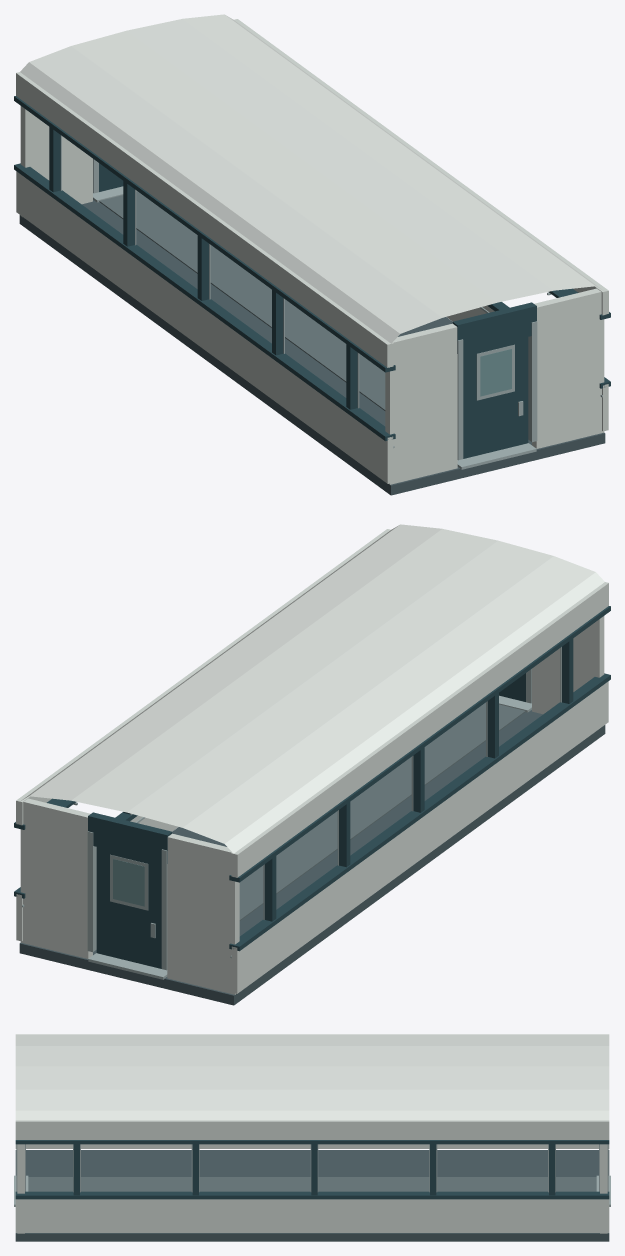
The model's file is carriage_modern.glb.
The picture shows the model from 3 angles, top to bottom: view 1: azimuth 30°, elevation 25°; view 2: azimuth 150°, elevation 25°; view 3: azimuth 270°, elevation 25°; orthographic projection. The views are drawn at different scales.
Parts seen in each view (by area): view 1: Faceted curved ceiling, Vestibule side panel (×3), Lower side wall, Upper side wall (×2), Full width floor, Open aisle runner, Continuous window sill, Sliding door panel, Window pillar (×5), Window header, Vestibule lintel, Tinted door glass (+3 smaller); view 2: Faceted curved ceiling, Vestibule side panel (×3), Lower side wall, Upper side wall (×2), Full width floor, Open aisle runner, Continuous window sill, Sliding door panel, Window pillar (×5), Window header, Vestibule lintel, Tinted door glass (+3 smaller); view 3: Faceted curved ceiling, Lower side wall (×2), Full width floor, Upper side wall, Open aisle runner, Continuous window sill, Window header, Window pillar (×5), Vestibule side panel (×2).
Part boxes in pixels (box(x1,y1,x2,y2)): Faceted curved ceiling: box(20, 14, 603, 343); Vestibule side panel (×3): box(20, 106, 604, 484); Lower side wall: box(16, 171, 393, 483); Upper side wall (×2): box(16, 19, 608, 367); Full width floor: box(19, 200, 605, 495); Open aisle runner: box(99, 191, 385, 410); Continuous window sill: box(14, 163, 395, 441); Sliding door panel: box(463, 337, 528, 458); Window pillar (×5): box(49, 127, 357, 409); Window header: box(14, 96, 395, 372); Vestibule lintel: box(452, 302, 536, 353); Tinted door glass: box(480, 349, 511, 396); Faceted curved ceiling: box(21, 524, 604, 853); Vestibule side panel (×3): box(20, 616, 604, 994); Lower side wall: box(231, 681, 608, 993); Upper side wall (×2): box(16, 529, 608, 877); Full width floor: box(19, 710, 605, 1005); Open aisle runner: box(239, 702, 525, 920); Continuous window sill: box(229, 673, 610, 951); Sliding door panel: box(96, 847, 161, 968); Window pillar (×5): box(264, 638, 573, 921); Window header: box(229, 606, 610, 882); Vestibule lintel: box(88, 812, 172, 863); Tinted door glass: box(113, 859, 144, 906); Faceted curved ceiling: box(15, 1034, 609, 1120); Lower side wall (×2): box(15, 1144, 609, 1232); Full width floor: box(15, 1150, 609, 1241); Upper side wall: box(15, 1120, 609, 1139); Open aisle runner: box(28, 1177, 596, 1191); Continuous window sill: box(15, 1191, 609, 1199); Window header: box(15, 1140, 609, 1144); Window pillar (×5): box(73, 1144, 555, 1195); Vestibule side panel (×2): box(17, 1144, 607, 1233).
Bounding box in the file's own units: 5.26 × 3.72 × 15.08.
